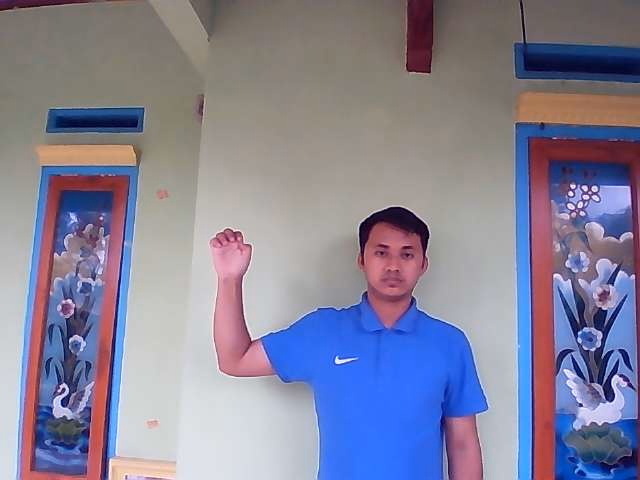E: (209, 228, 253, 278)
